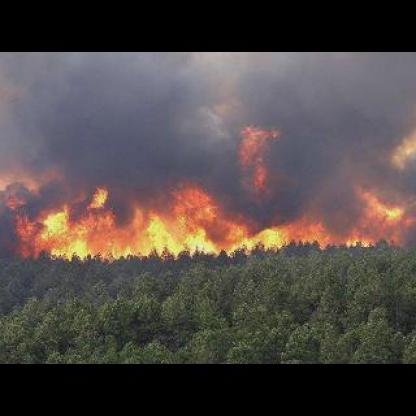fire: (9, 180, 338, 262), (348, 181, 407, 250), (234, 121, 272, 192)
